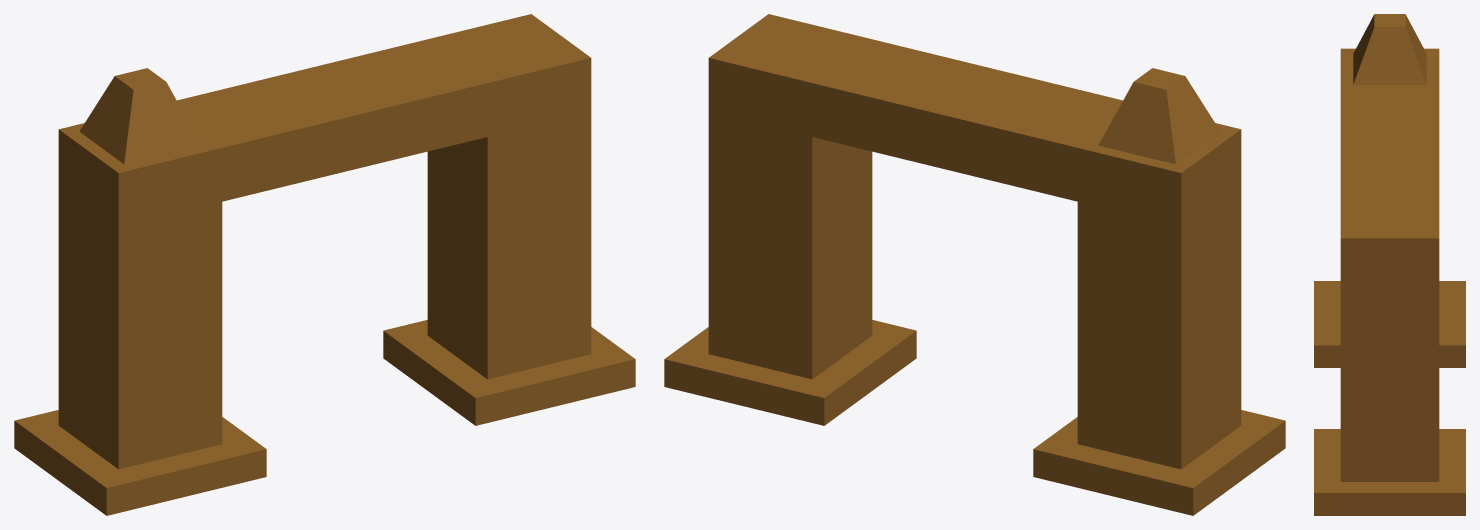
Rendered from arch_mountain.glb.
3 views of the same model, side by side, from view 1: azimuth 30°, elevation 25°; view 2: azimuth 150°, elevation 25°; view 3: azimuth 270°, elevation 25° (orthographic). The views are drawn at different scales.
Visible parts, largest first — view 1: archmountain; view 2: archmountain; view 3: archmountain.
Boxes of the visible parts, <box> form: archmountain: <box>14,14,635,515</box>; archmountain: <box>664,14,1285,515</box>; archmountain: <box>1314,14,1465,515</box>.
Size of the model in its own units: 39.84 by 27.62 by 12.05.
